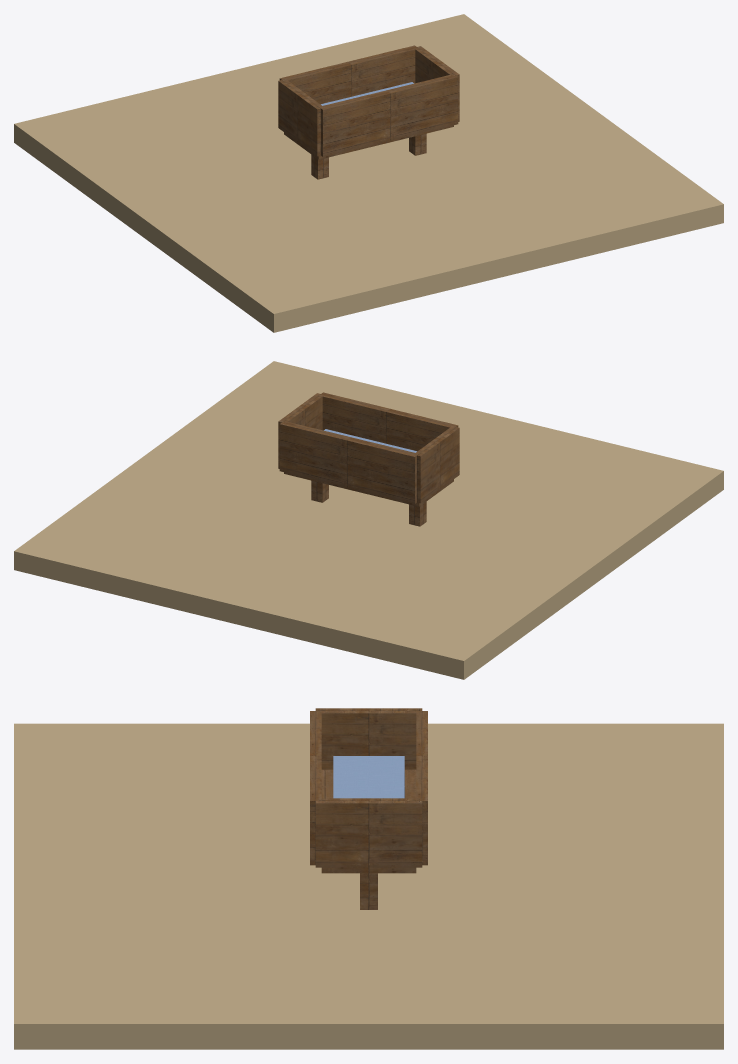
File: manjedoura.glb
The picture shows the model from 3 angles, top to bottom: view 1: azimuth 30°, elevation 25°; view 2: azimuth 150°, elevation 25°; view 3: azimuth 270°, elevation 25°; orthographic projection. The views are drawn at different scales.
Visible parts, largest first — view 1: Base ilustrativa, Parede.001, Parede, Extremidade, Extremidade.001; view 2: Base ilustrativa, Parede, Parede.001, Extremidade, Extremidade.001; view 3: Base ilustrativa, Extremidade.001, Extremidade, Palha, Parede, Parede.001, Fundo, Pé.001.
Part boxes in pixels (x1=…): Base ilustrativa: x1=14, y1=14, x2=723, y2=332; Parede.001: x1=319, y1=75, x2=458, y2=156; Parede: x1=279, y1=45, x2=418, y2=104; Extremidade: x1=278, y1=79, x2=324, y2=156; Extremidade.001: x1=415, y1=46, x2=459, y2=121; Base ilustrativa: x1=14, y1=361, x2=723, y2=679; Parede: x1=279, y1=422, x2=418, y2=503; Parede.001: x1=319, y1=392, x2=458, y2=451; Extremidade: x1=414, y1=426, x2=459, y2=503; Extremidade.001: x1=278, y1=393, x2=322, y2=468; Base ilustrativa: x1=14, y1=723, x2=723, y2=1049; Extremidade.001: x1=315, y1=798, x2=422, y2=867; Extremidade: x1=315, y1=708, x2=422, y2=769; Palha: x1=333, y1=756, x2=404, y2=798; Parede: x1=416, y1=711, x2=427, y2=865; Parede.001: x1=310, y1=711, x2=321, y2=865; Fundo: x1=321, y1=769, x2=416, y2=873; Pé.001: x1=360, y1=873, x2=377, y2=909.
Bounding box in the file's own units: 6 × 1.34 × 6.
Materials: 3 (2 with a texture image).
